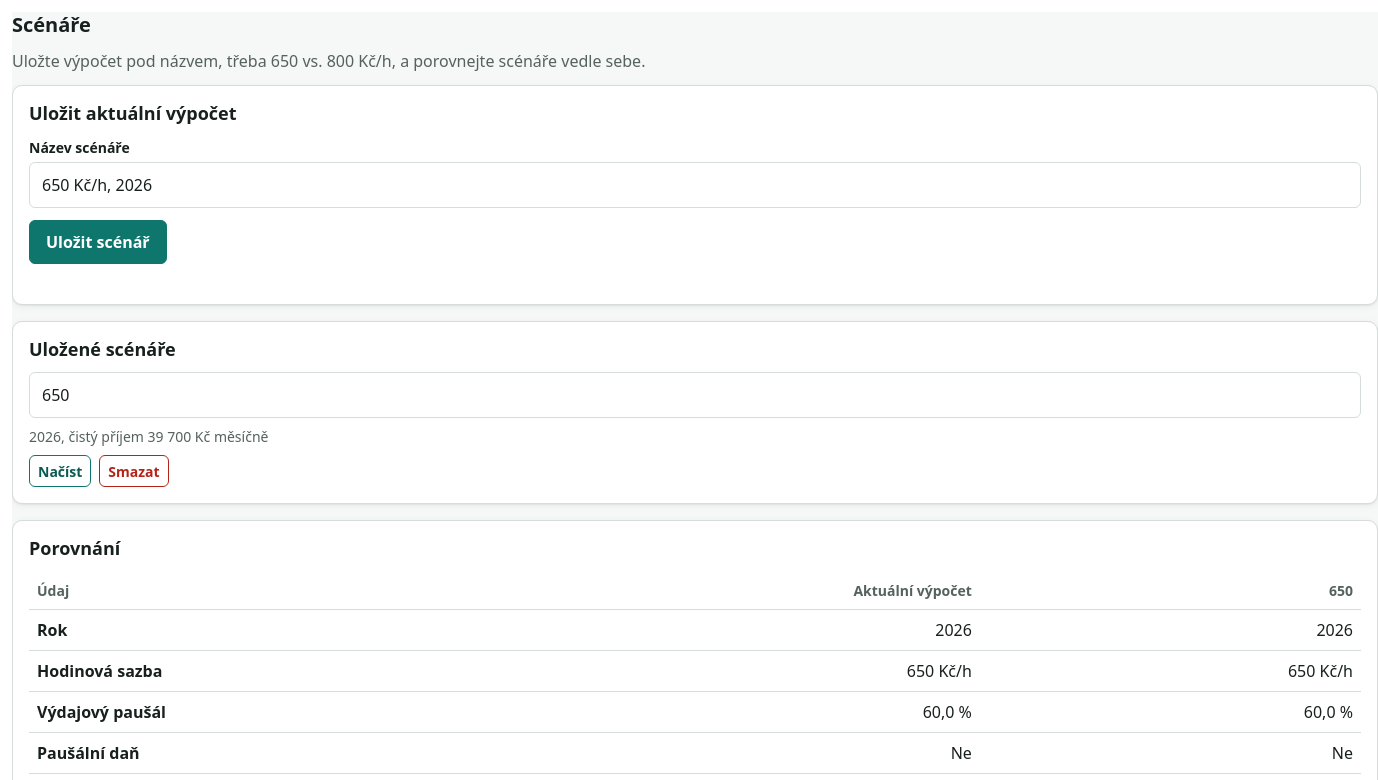
Test: ScenariosScreen: managing saved scenarios › renames a scenario from its name field
Replace the text in the field named "Přejmenovat scénář „650“" with "Nízká sazba": [695, 395] box left=30, top=373, right=1360, bottom=417
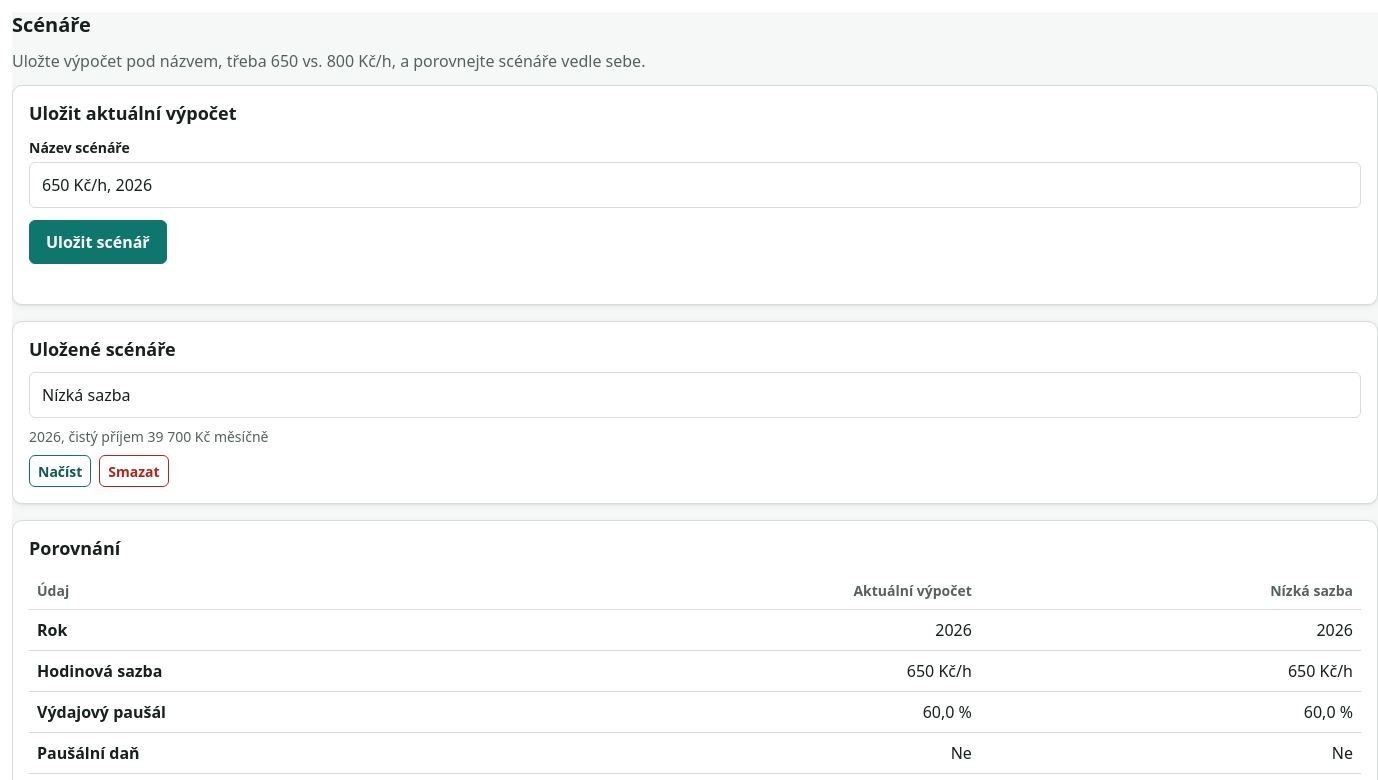
Now the column heading "Nízká sazba" is shown, box left=980, top=572, right=1361, bottom=609
